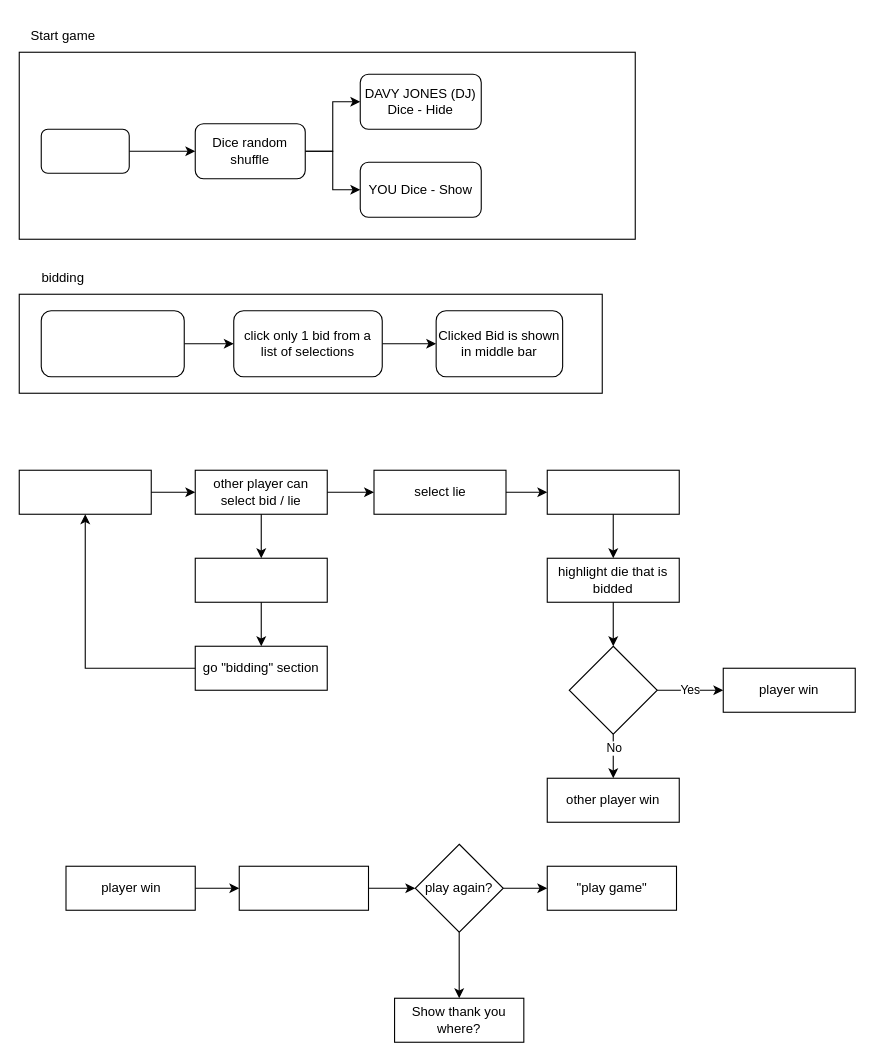
This 875x1062 diagram has some shape labels left out. The box of each missing label's shape, as (x1, y1, x2, y2) in pixels:
Bid made: (18, 469, 151, 514)
Bid Selection appears: (40, 310, 184, 377)
confirm with text - xxx win - want to play again?: (238, 865, 369, 910)
is lie: (568, 645, 657, 734)
select bid: (194, 557, 327, 602)
show die: (546, 469, 679, 514)
Start Button: (40, 128, 129, 173)
